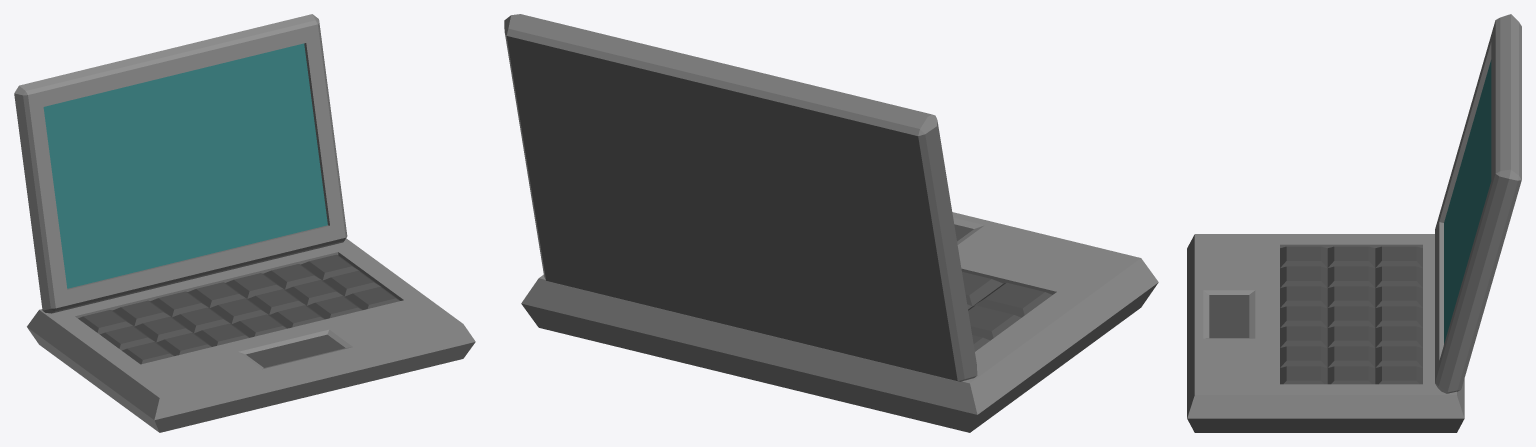
Rendered from laptop.gltf.
The picture shows the model from 3 angles, left to right: view 1: azimuth 30°, elevation 25°; view 2: azimuth 150°, elevation 25°; view 3: azimuth 270°, elevation 25°; orthographic projection. The views are drawn at different scales.
Parts seen in each view (by area): view 1: Laptop; view 2: Laptop; view 3: Laptop.
Part boxes in pixels (x1,y1,x2,y2): Laptop: (14,14,475,432); Laptop: (504,14,1158,432); Laptop: (1187,14,1521,432).
Bounding box in the file's own units: 2.8 × 2 × 2.32.
